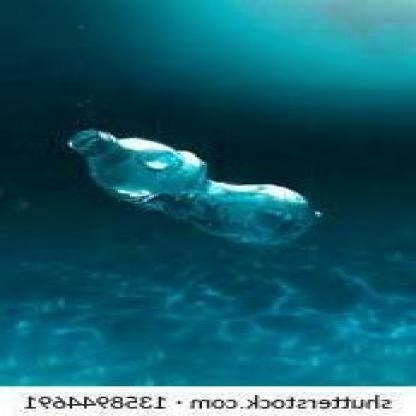pbottle: (46, 120, 327, 250)
